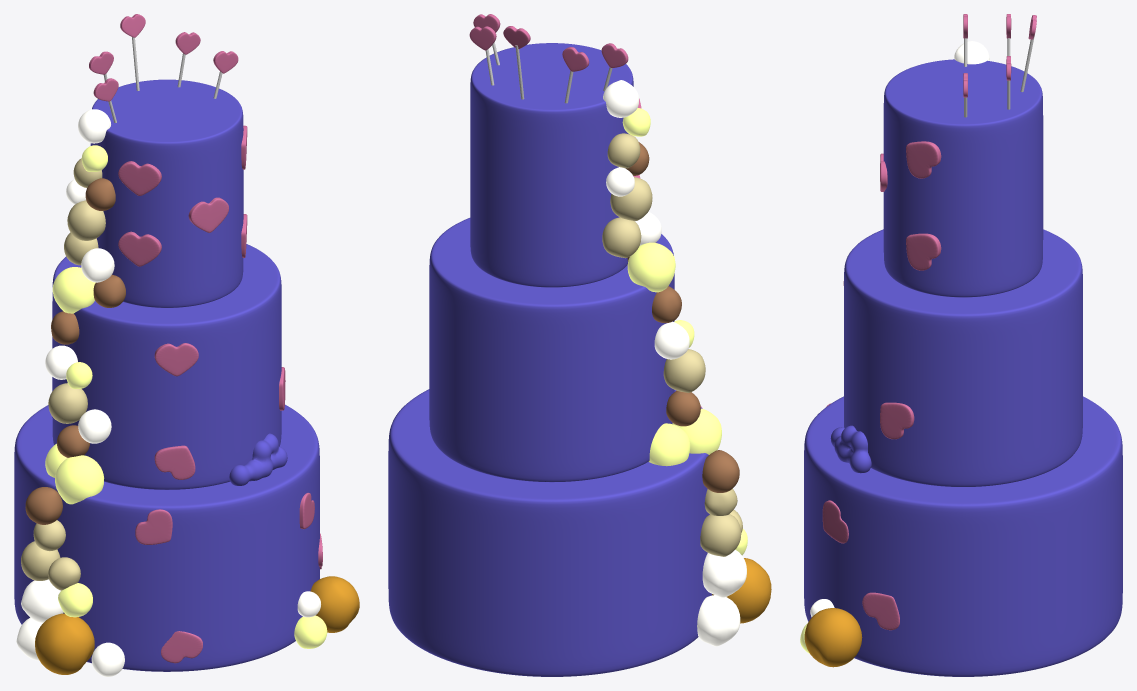
The model's file is Cake_Layer_3_Purple_Topper1_Hearts_NoDrip.glb.
3 renders of one model, left to right at view 1: azimuth 30°, elevation 25°; view 2: azimuth 150°, elevation 25°; view 3: azimuth 270°, elevation 25°, orthographic. The views are drawn at different scales.
Parts seen in each view (by area): view 1: Circle.001, Circle.002, Circle.003, Sphere, Sphere.026, Sphere.015, Sphere.028, Sphere.007, Sphere.002, Sphere.012, Sphere.032, Sphere.006 (+25 smaller); view 2: Circle.001, Circle.002, Circle.003, Sphere.007, Sphere.013, Sphere.002, Sphere, Sphere.005, Sphere.008, Sphere.012, Sphere.006, Sphere.037 (+11 smaller); view 3: Circle.001, Circle.002, Circle.003, Sphere.026, Sphere.028, Star.016, Star.012, Star.004, Star.011, Star.010, Sphere.039.
Boxes of the visible parts, <box> form: Circle.001: <box>14,404,319,671</box>; Circle.002: <box>52,244,281,489</box>; Circle.003: <box>90,79,243,307</box>; Sphere: <box>35,613,94,674</box>; Sphere.026: <box>310,576,359,632</box>; Sphere.015: <box>55,455,104,504</box>; Sphere.028: <box>229,433,287,485</box>; Sphere.007: <box>52,267,95,313</box>; Sphere.002: <box>21,579,63,622</box>; Sphere.012: <box>48,383,87,423</box>; Sphere.032: <box>67,200,105,240</box>; Sphere.006: <box>25,487,62,524</box>; Circle.001: <box>388,389,711,676</box>; Circle.002: <box>429,218,674,482</box>; Circle.003: <box>470,43,633,287</box>; Sphere.007: <box>627,242,675,292</box>; Sphere.013: <box>697,595,740,646</box>; Sphere.002: <box>702,550,746,597</box>; Sphere: <box>712,558,771,623</box>; Sphere.005: <box>700,514,741,556</box>; Sphere.008: <box>648,423,690,466</box>; Sphere.012: <box>663,349,705,392</box>; Sphere.006: <box>702,450,739,492</box>; Sphere.037: <box>602,217,641,258</box>; Circle.001: <box>804,396,1122,676</box>; Circle.002: <box>844,229,1082,486</box>; Circle.003: <box>883,59,1043,297</box>; Sphere.026: <box>804,608,862,667</box>; Sphere.028: <box>830,425,871,473</box>; Star.016: <box>906,141,941,178</box>; Star.012: <box>906,233,941,270</box>; Star.004: <box>880,402,914,439</box>; Star.011: <box>862,592,899,630</box>; Star.010: <box>822,500,848,543</box>; Sphere.039: <box>954,41,989,64</box>.
Size of the model in its own units: 0.2244 by 0.4156 by 0.2025.
